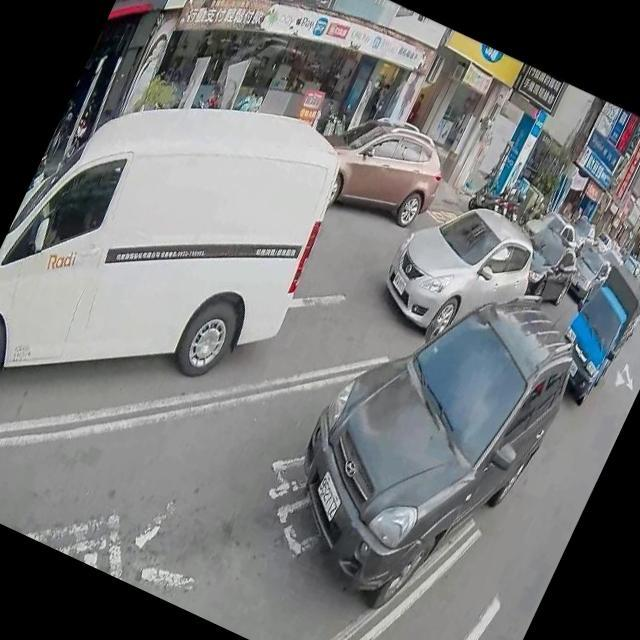person: (230, 85, 256, 116), (246, 90, 265, 116)
